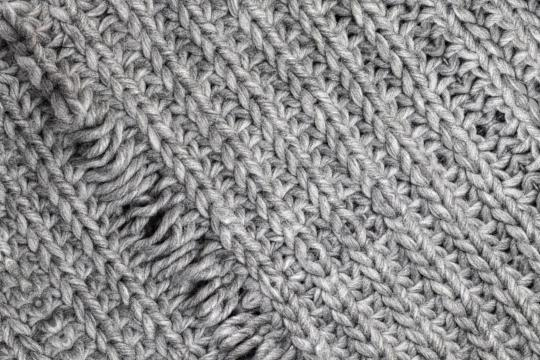slub: (51, 116, 303, 360)
